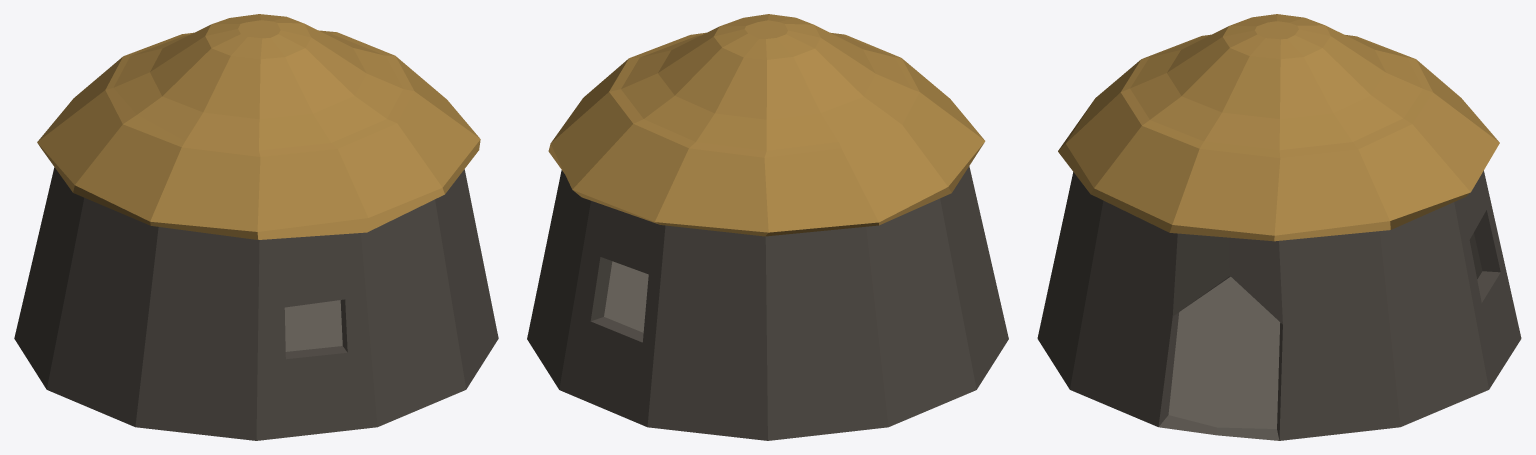
The model's file is Forest House 5.fbx.
The picture shows the model from 3 angles, left to right: view 1: azimuth 30°, elevation 25°; view 2: azimuth 150°, elevation 25°; view 3: azimuth 270°, elevation 25°; orthographic projection.
Parts seen in each view (by area): view 1: Cylinder; view 2: Cylinder; view 3: Cylinder.
Boxes of the visible parts, x1=… form: Cylinder: x1=14, y1=14, x2=498, y2=440; Cylinder: x1=527, y1=14, x2=1008, y2=440; Cylinder: x1=1037, y1=14, x2=1521, y2=440.
Bounding box in the file's own units: 382 × 271 × 382.
